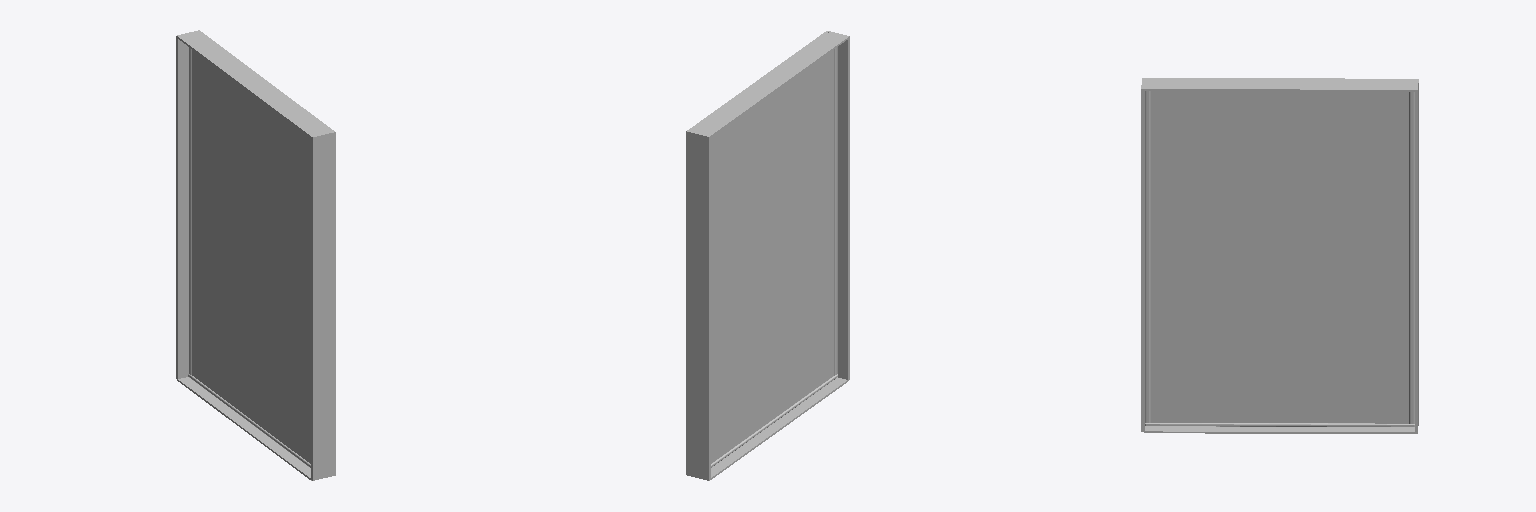
Rendered from Ventana12.obj.
3 views of the same model, side by side, from view 1: azimuth 30°, elevation 25°; view 2: azimuth 150°, elevation 25°; view 3: azimuth 270°, elevation 25° (orthographic).
Visible parts, largest first — view 1: polySurface82; view 2: polySurface82; view 3: polySurface82.
Part boxes in pixels (bbox=[...]): polySurface82: bbox=[176, 30, 335, 480]; polySurface82: bbox=[686, 31, 849, 480]; polySurface82: bbox=[1141, 78, 1418, 433].
Bounding box in the file's own units: 0.148 × 1.94 × 1.42.